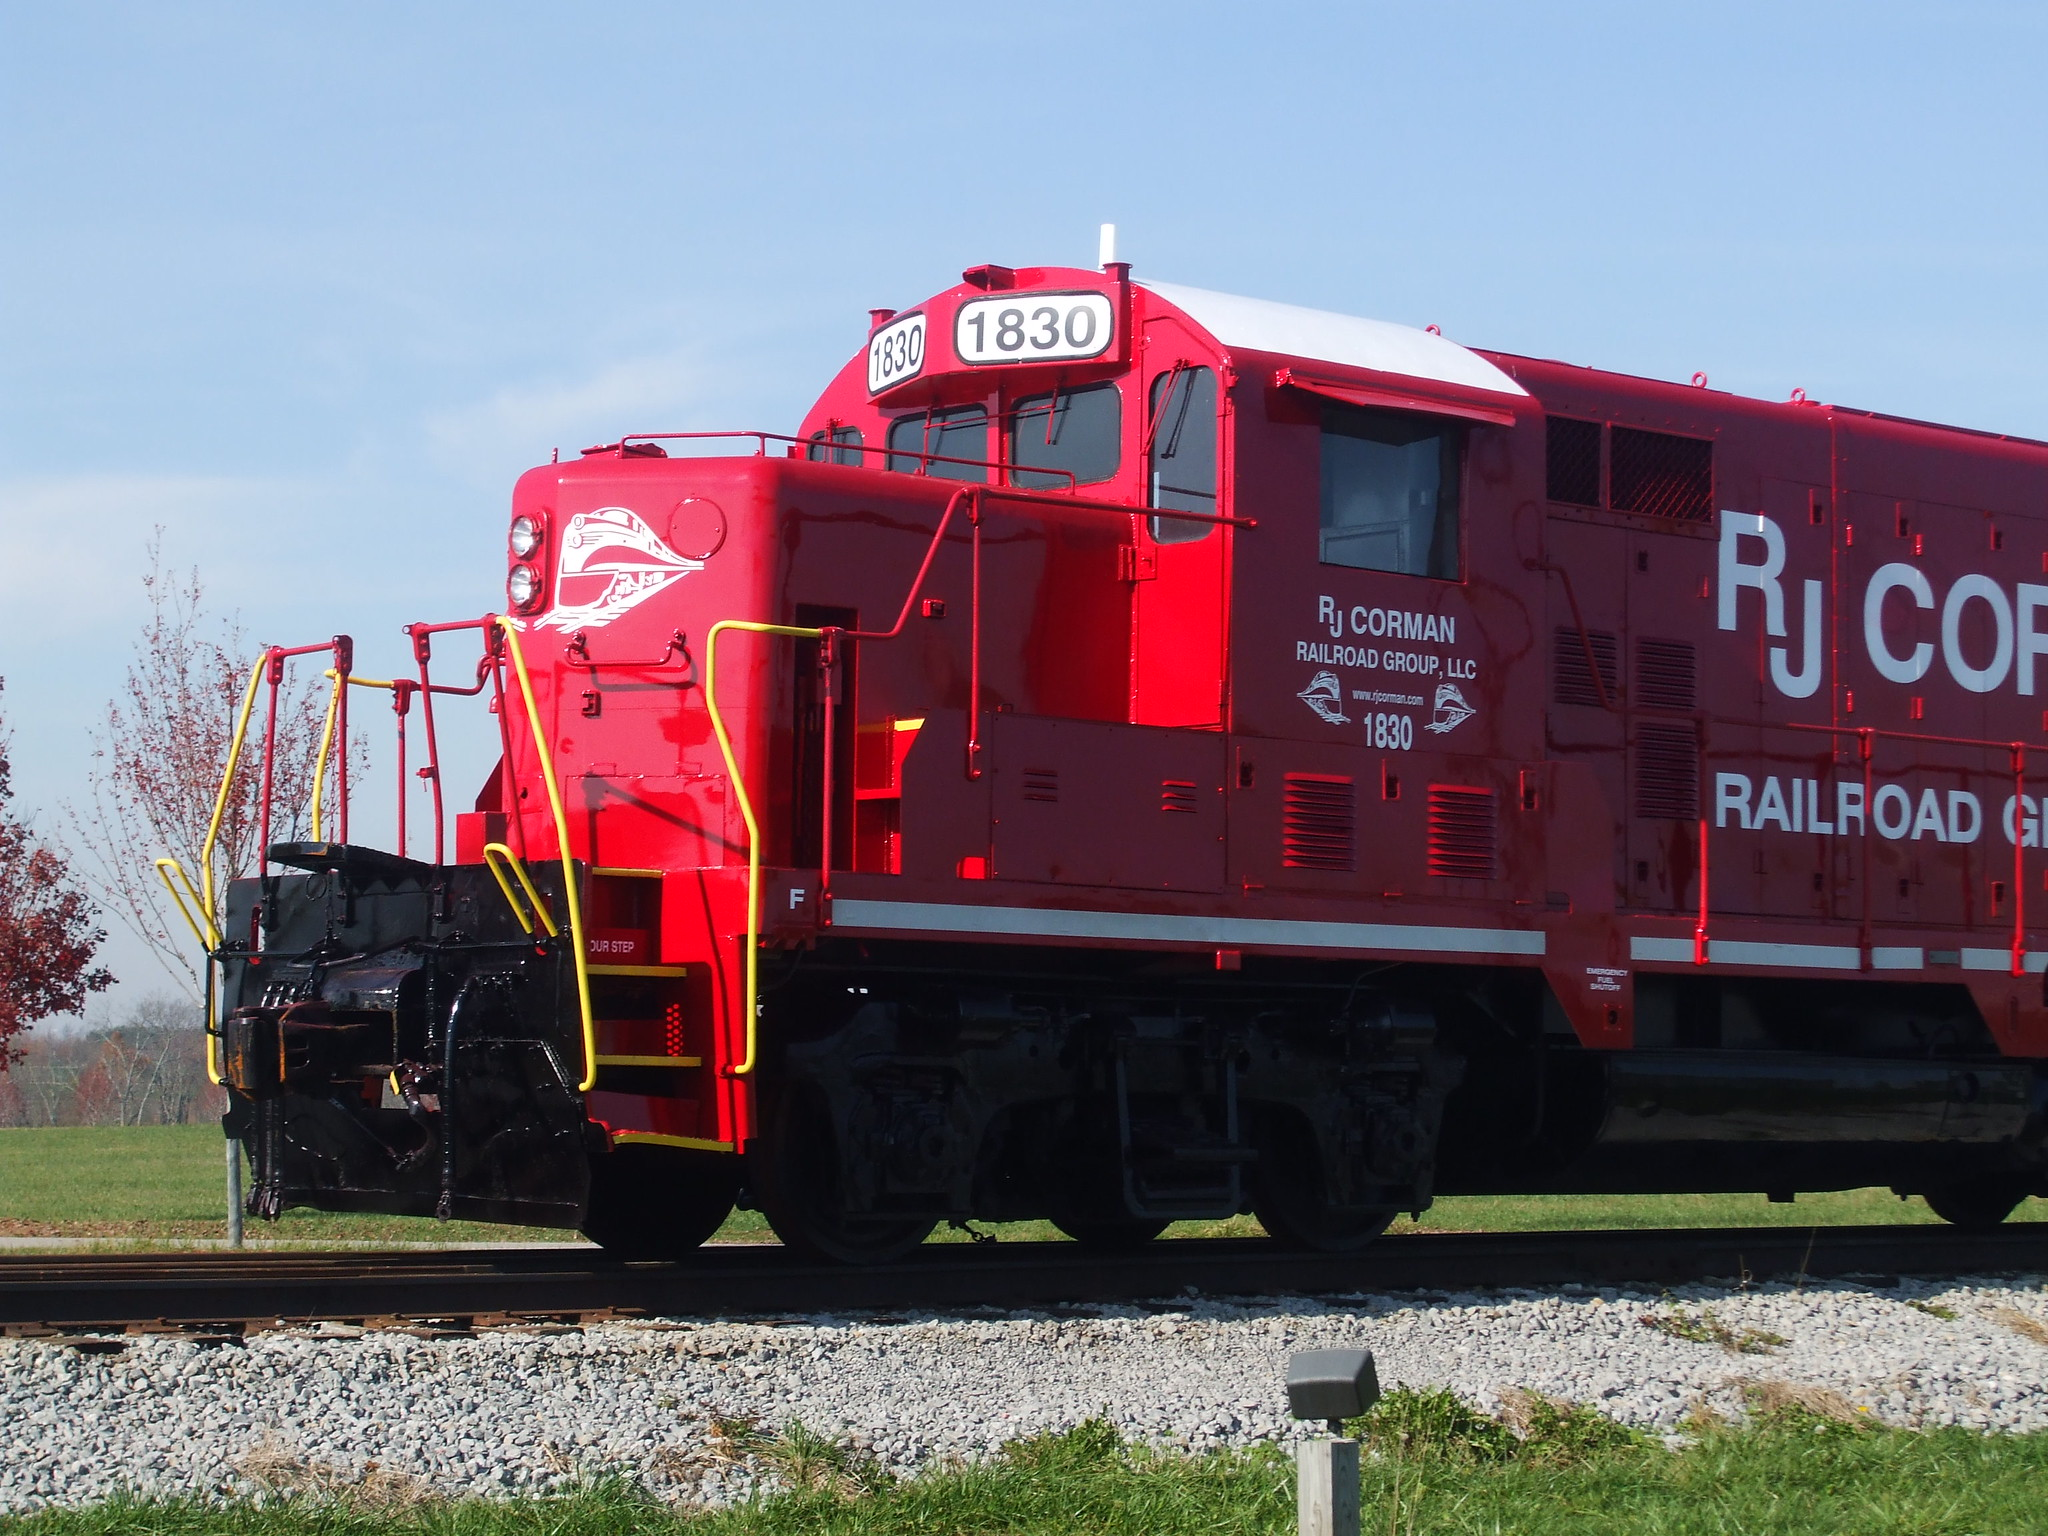train: (190, 253, 2038, 1288)
